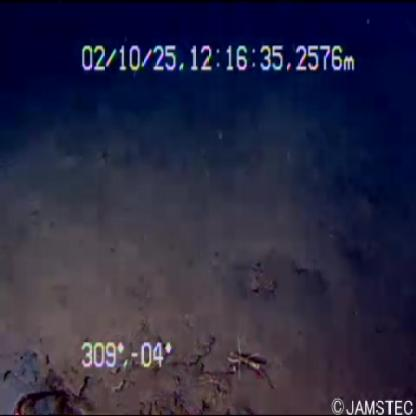Rác: (8, 386, 78, 416)
